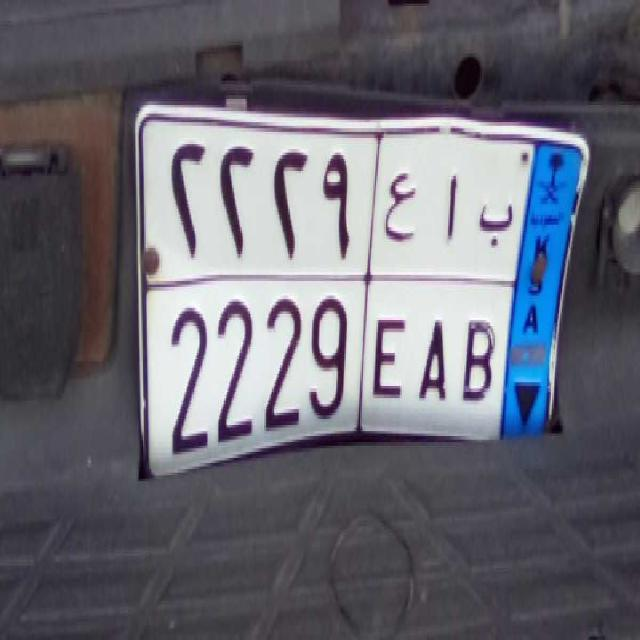license_plate: (155, 277, 504, 480)
